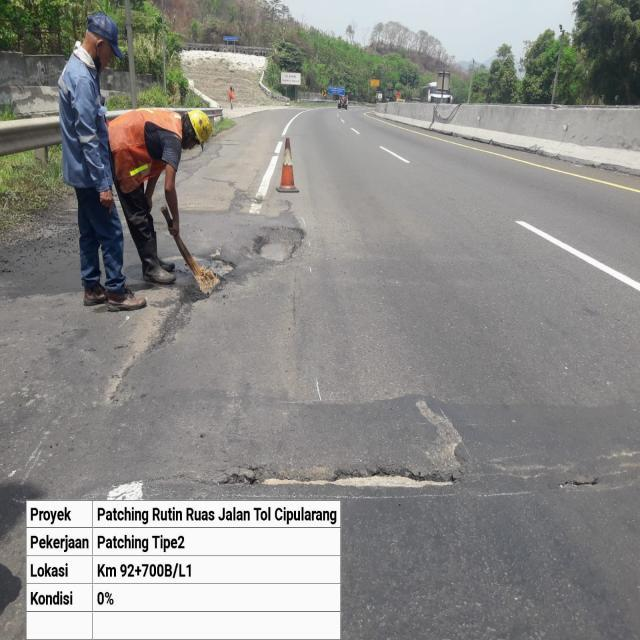Buraco: (208, 461, 467, 491), (157, 244, 240, 279), (250, 224, 308, 265), (554, 471, 604, 492), (249, 194, 267, 206)
